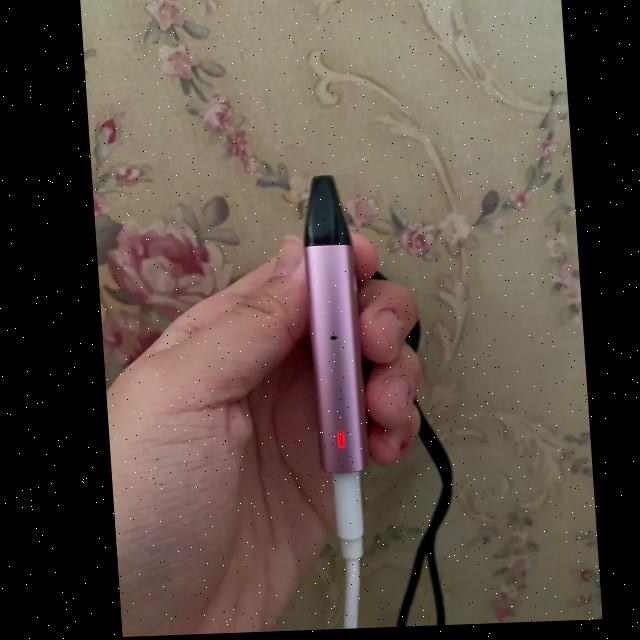vape: (296, 174, 365, 474)
